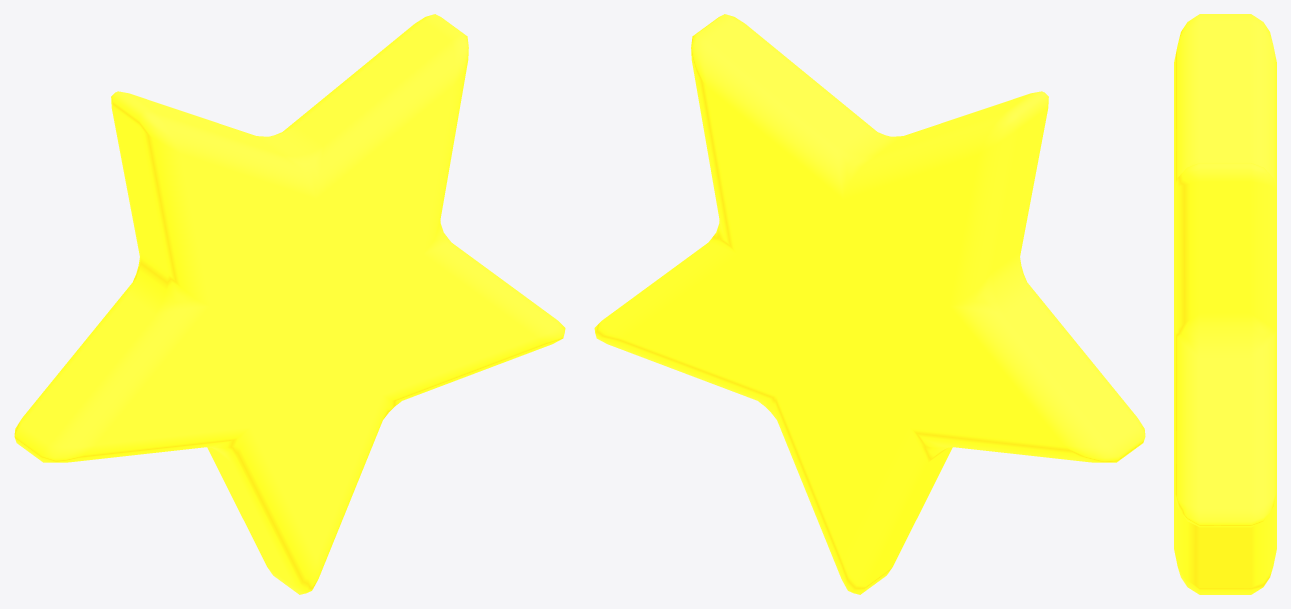
The model's file is star.glb.
3 renders of one model, left to right at view 1: azimuth 30°, elevation 25°; view 2: azimuth 150°, elevation 25°; view 3: azimuth 270°, elevation 25°, orthographic. The views are drawn at different scales.
Visible parts, largest first — view 1: Star; view 2: Star; view 3: Star.
Boxes of the visible parts, x1=… form: Star: x1=14, y1=14, x2=565, y2=594; Star: x1=594, y1=14, x2=1145, y2=594; Star: x1=1174, y1=14, x2=1276, y2=594.
Bounding box in the file's own units: 1.14 × 1.08 × 0.2.
